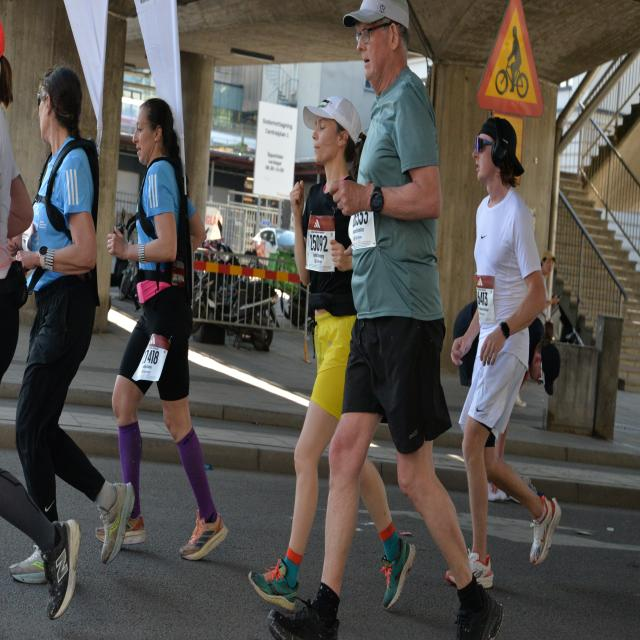runner-detect: (265, 1, 507, 640), (245, 94, 417, 613), (9, 64, 136, 600), (95, 99, 230, 568), (453, 114, 569, 598)
